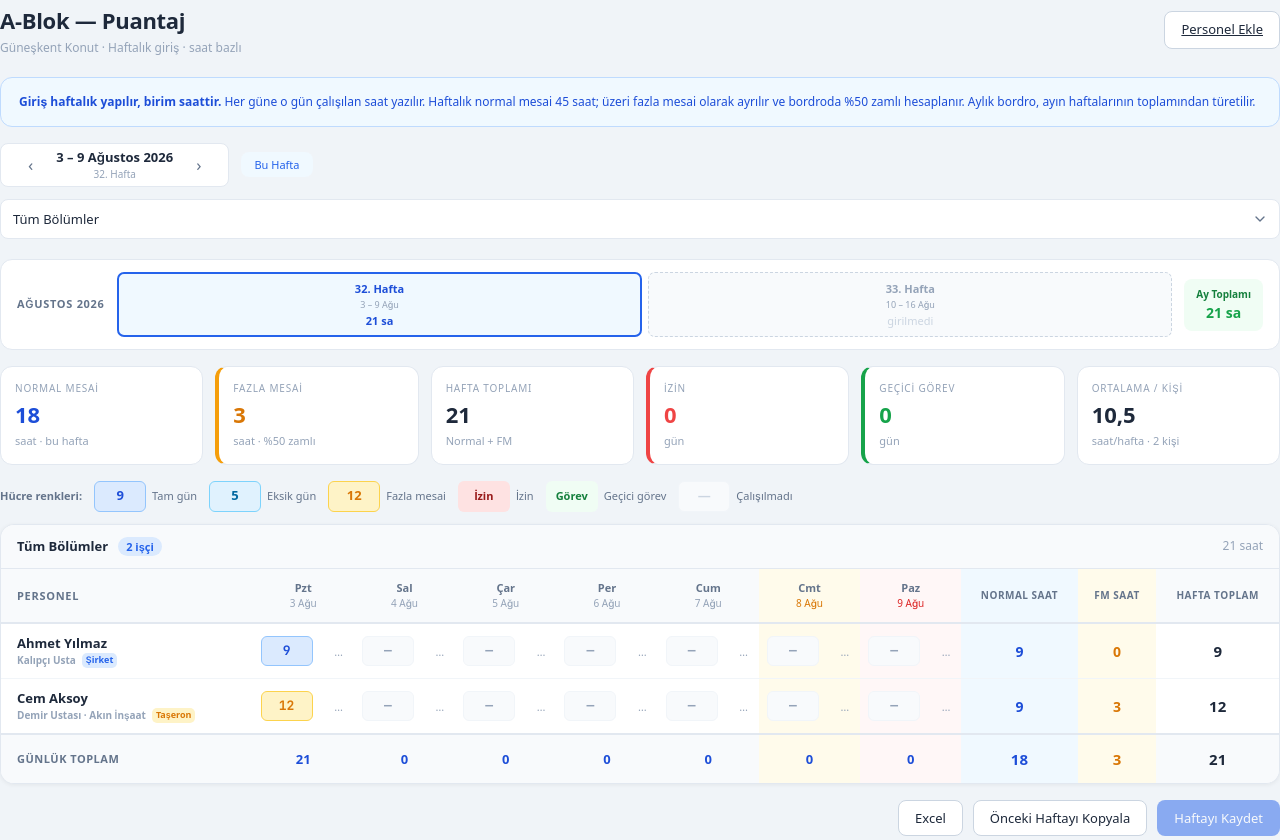
Test: SiteTimesheetView · kaydetme sonucu › 409 kişi-gün çakışması Türkçe mesajla basılır ve taslak KORUNUR
What coordinates should you click on to do the following:
click the 1st button "…"
I would click on:
 (339, 651)
Its box is [331,644,346,658].
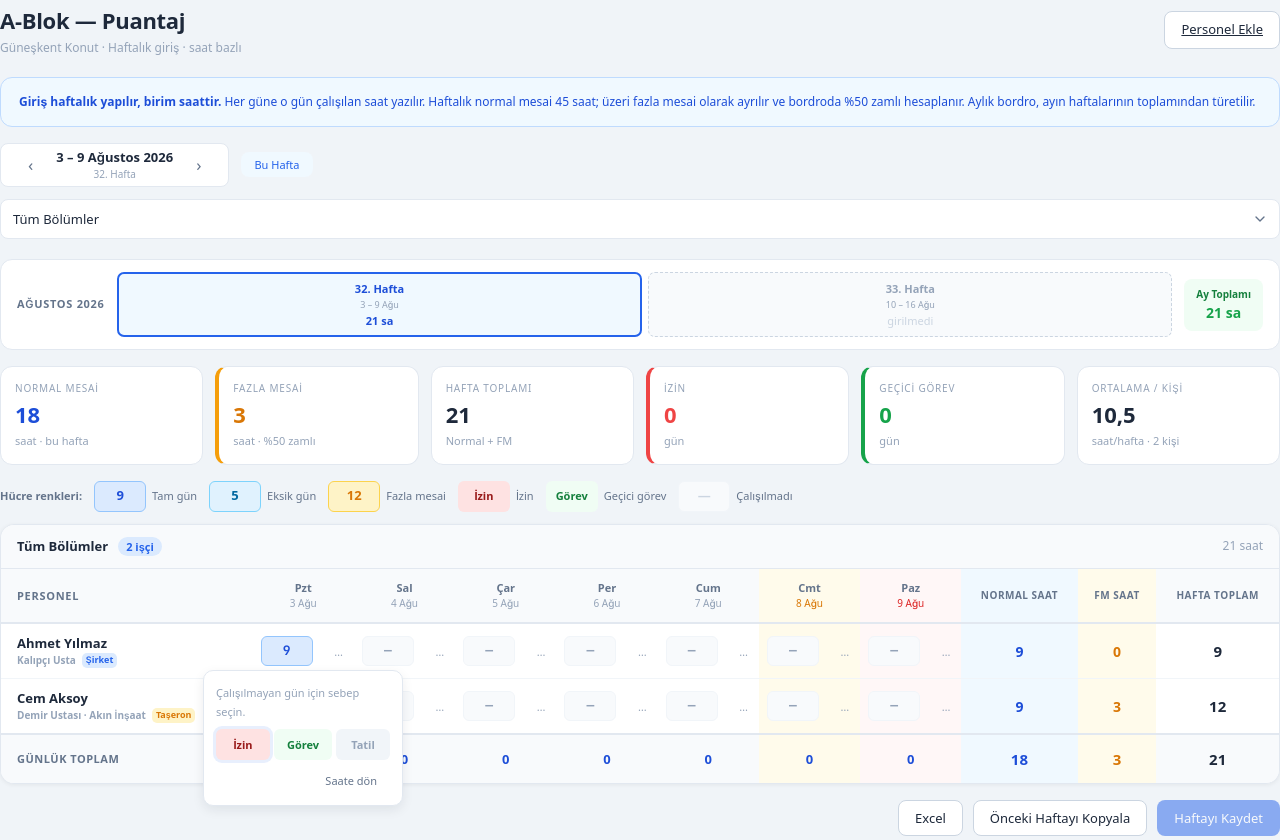
What coordinates should you click on to do the following:
click the button "İzin"
I would click on:
 (243, 744)
Its box is [216,729,270,760].
(page scrolled)
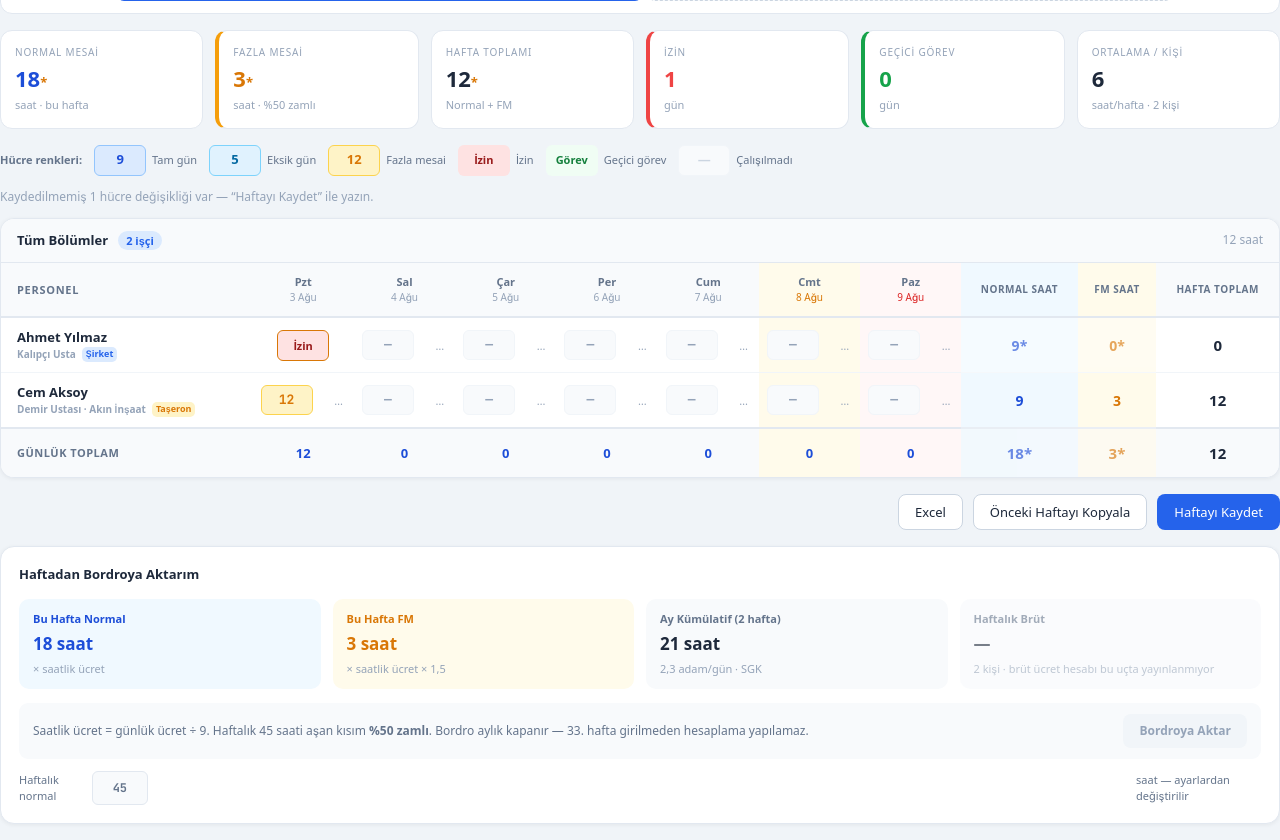
What coordinates should you click on to do the following:
click the button "Haftayı Kaydet"
I would click on:
 (1219, 512)
Its box is [1157,494,1279,530].
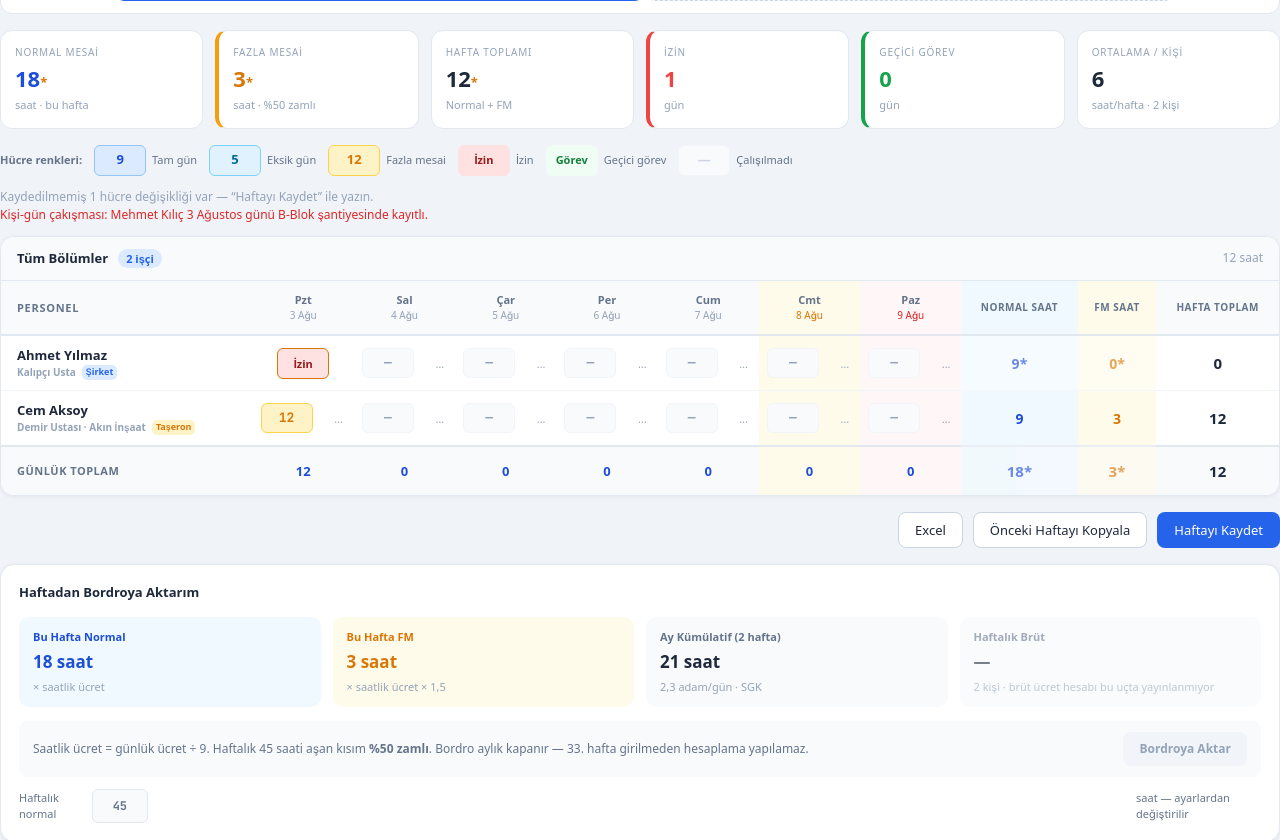
Now the button "Haftayı Kaydet" is enabled, box [1157,512,1279,548]
Now the text "Kişi-gün çakışması: Mehmet Kılıç 3 Ağustos günü B-Blok şantiyesinde kayıtlı." is shown, box [0,206,428,222]
